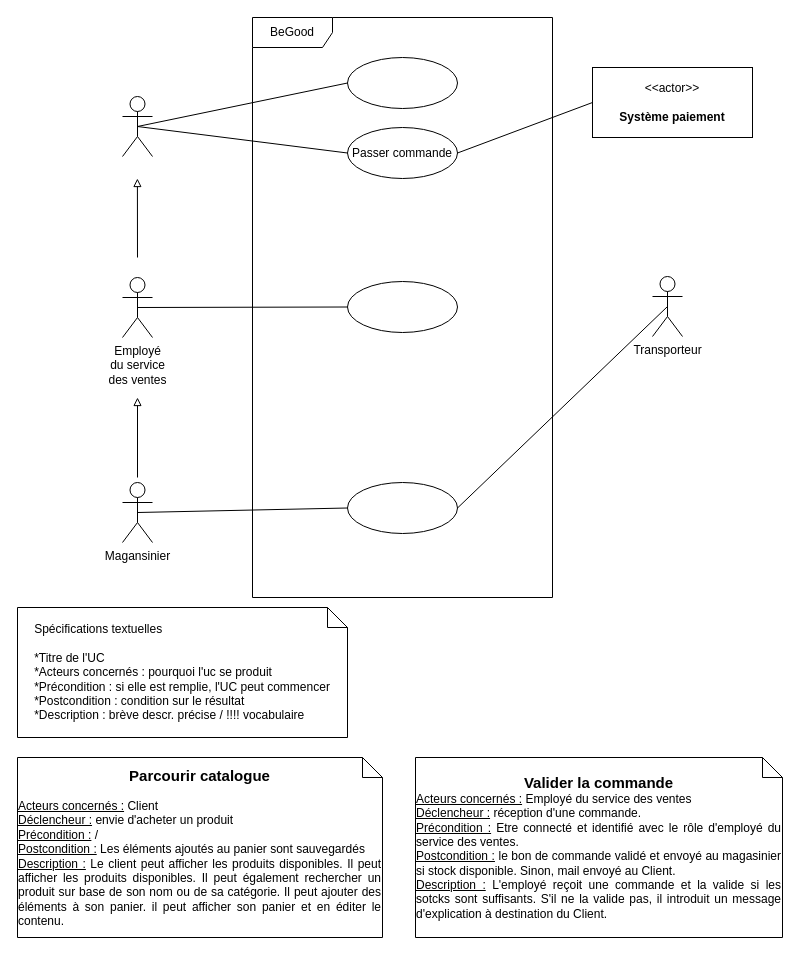
The diagram is 800 pixels wide and 955 high, and some of its shapes have lost their labels. Each missing label, with the box of its shape:
Client: (122, 96, 152, 156)
Gérer panier: (346, 56, 458, 108)
Préparer / expédier commande: (346, 482, 458, 534)
Valider commande: (346, 280, 458, 332)
